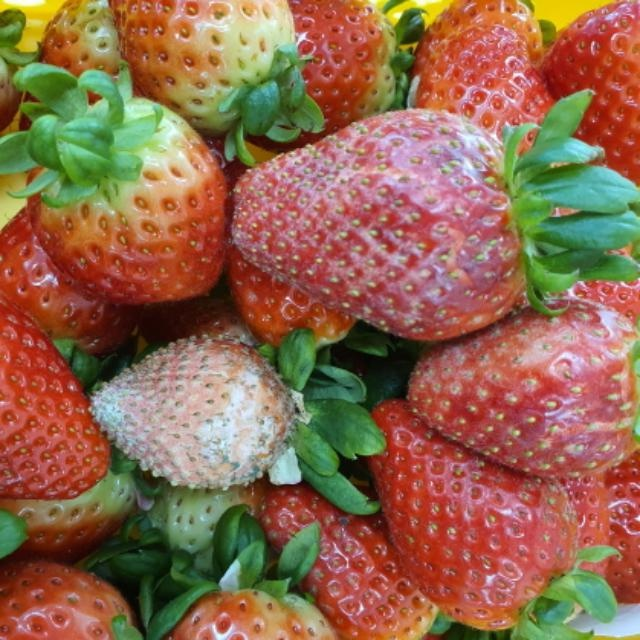Powdery Mildew Fruit: (230, 107, 532, 342), (407, 298, 640, 477), (87, 330, 298, 489)
